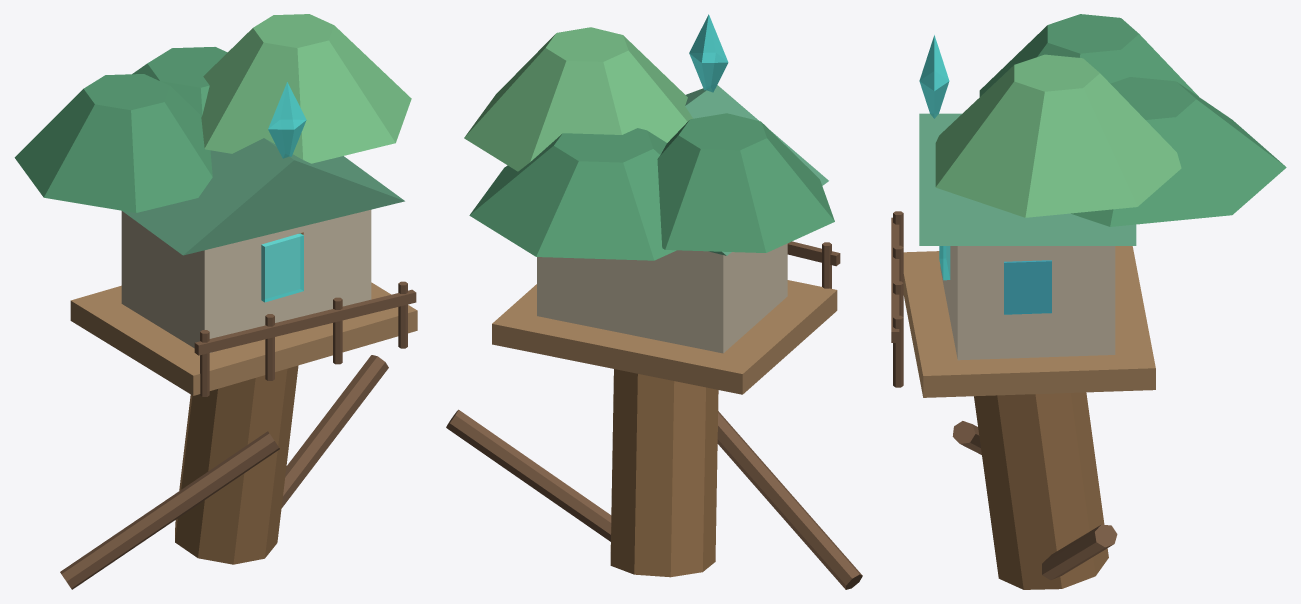
Rendered from thornveil-treehouse.low.glb.
3 views of the same model, side by side, from view 1: azimuth 30°, elevation 25°; view 2: azimuth 150°, elevation 25°; view 3: azimuth 270°, elevation 25° (orthographic). The views are drawn at different scales.
Parts seen in each view (by area): view 1: treehouse_canopy_high, treehouse_body, treehouse_canopy_low, treehouse_giant_trunk, treehouse_moss_roof, treehouse_platform, treehouse_support_root_a, treehouse_support_root_b, treehouse_front_rail, treehouse_canopy_back, treehouse_window_front, treehouse_roof_crystal (+4 smaller); view 2: treehouse_giant_trunk, treehouse_body, treehouse_canopy_back, treehouse_canopy_low, treehouse_canopy_high, treehouse_platform, treehouse_support_root_a, treehouse_support_root_b, treehouse_moss_roof, treehouse_roof_crystal, treehouse_front_rail; view 3: treehouse_canopy_high, treehouse_giant_trunk, treehouse_platform, treehouse_body, treehouse_canopy_back, treehouse_moss_roof, treehouse_canopy_low, treehouse_window_side, treehouse_support_root_b, treehouse_roof_crystal, treehouse_front_rail, treehouse_rail_post_3 (+1 smaller).
Part boxes in pixels (left/top/right/bottom): treehouse_canopy_high: left=201, top=14, right=411, bottom=163; treehouse_body: left=121, top=210, right=371, bottom=352; treehouse_canopy_low: left=14, top=74, right=212, bottom=212; treehouse_giant_trunk: left=175, top=232, right=303, bottom=564; treehouse_moss_roof: left=122, top=138, right=404, bottom=255; treehouse_platform: left=70, top=282, right=417, bottom=395; treehouse_support_root_a: left=60, top=431, right=279, bottom=589; treehouse_support_root_b: left=281, top=355, right=388, bottom=508; treehouse_front_rail: left=194, top=289, right=416, bottom=355; treehouse_canopy_back: left=132, top=47, right=227, bottom=117; treehouse_window_front: left=261, top=233, right=303, bottom=302; treehouse_roof_crystal: left=268, top=82, right=306, bottom=158; treehouse_giant_trunk: left=610, top=369, right=718, bottom=577; treehouse_body: left=537, top=243, right=787, bottom=353; treehouse_canopy_back: left=469, top=128, right=676, bottom=260; treehouse_canopy_low: left=657, top=113, right=834, bottom=252; treehouse_canopy_high: left=464, top=27, right=692, bottom=171; treehouse_platform: left=492, top=280, right=837, bottom=394; treehouse_support_root_a: left=717, top=411, right=862, bottom=589; treehouse_support_root_b: left=446, top=409, right=611, bottom=541; treehouse_moss_roof: left=685, top=85, right=828, bottom=255; treehouse_roof_crystal: left=689, top=14, right=728, bottom=92; treehouse_front_rail: left=787, top=241, right=840, bottom=266; treehouse_canopy_high: left=935, top=54, right=1181, bottom=217; treehouse_giant_trunk: left=974, top=392, right=1108, bottom=589; treehouse_platform: left=903, top=246, right=1155, bottom=397; treehouse_body: left=940, top=246, right=1115, bottom=360; treehouse_canopy_back: left=1071, top=77, right=1286, bottom=226; treehouse_moss_roof: left=919, top=113, right=1136, bottom=245; treehouse_canopy_low: left=979, top=14, right=1198, bottom=96; treehouse_window_side: left=1004, top=260, right=1051, bottom=314; treehouse_support_root_b: left=1042, top=524, right=1117, bottom=580; treehouse_roof_crystal: left=919, top=35, right=949, bottom=118; treehouse_front_rail: left=891, top=217, right=899, bottom=342; treehouse_rail_post_3: left=893, top=315, right=903, bottom=387.
Bounding box in the file's own units: 3.02 × 3.96 × 2.63.
